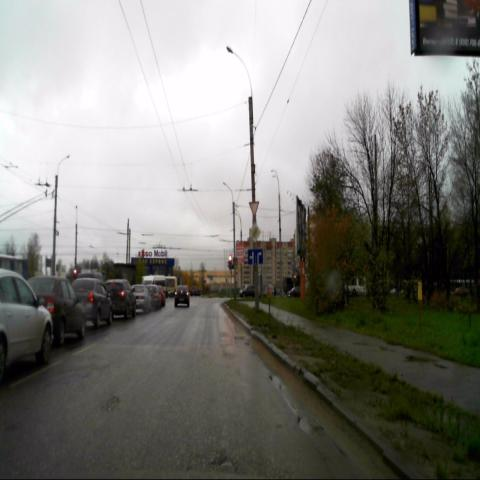2_2: (249, 222, 261, 243)
